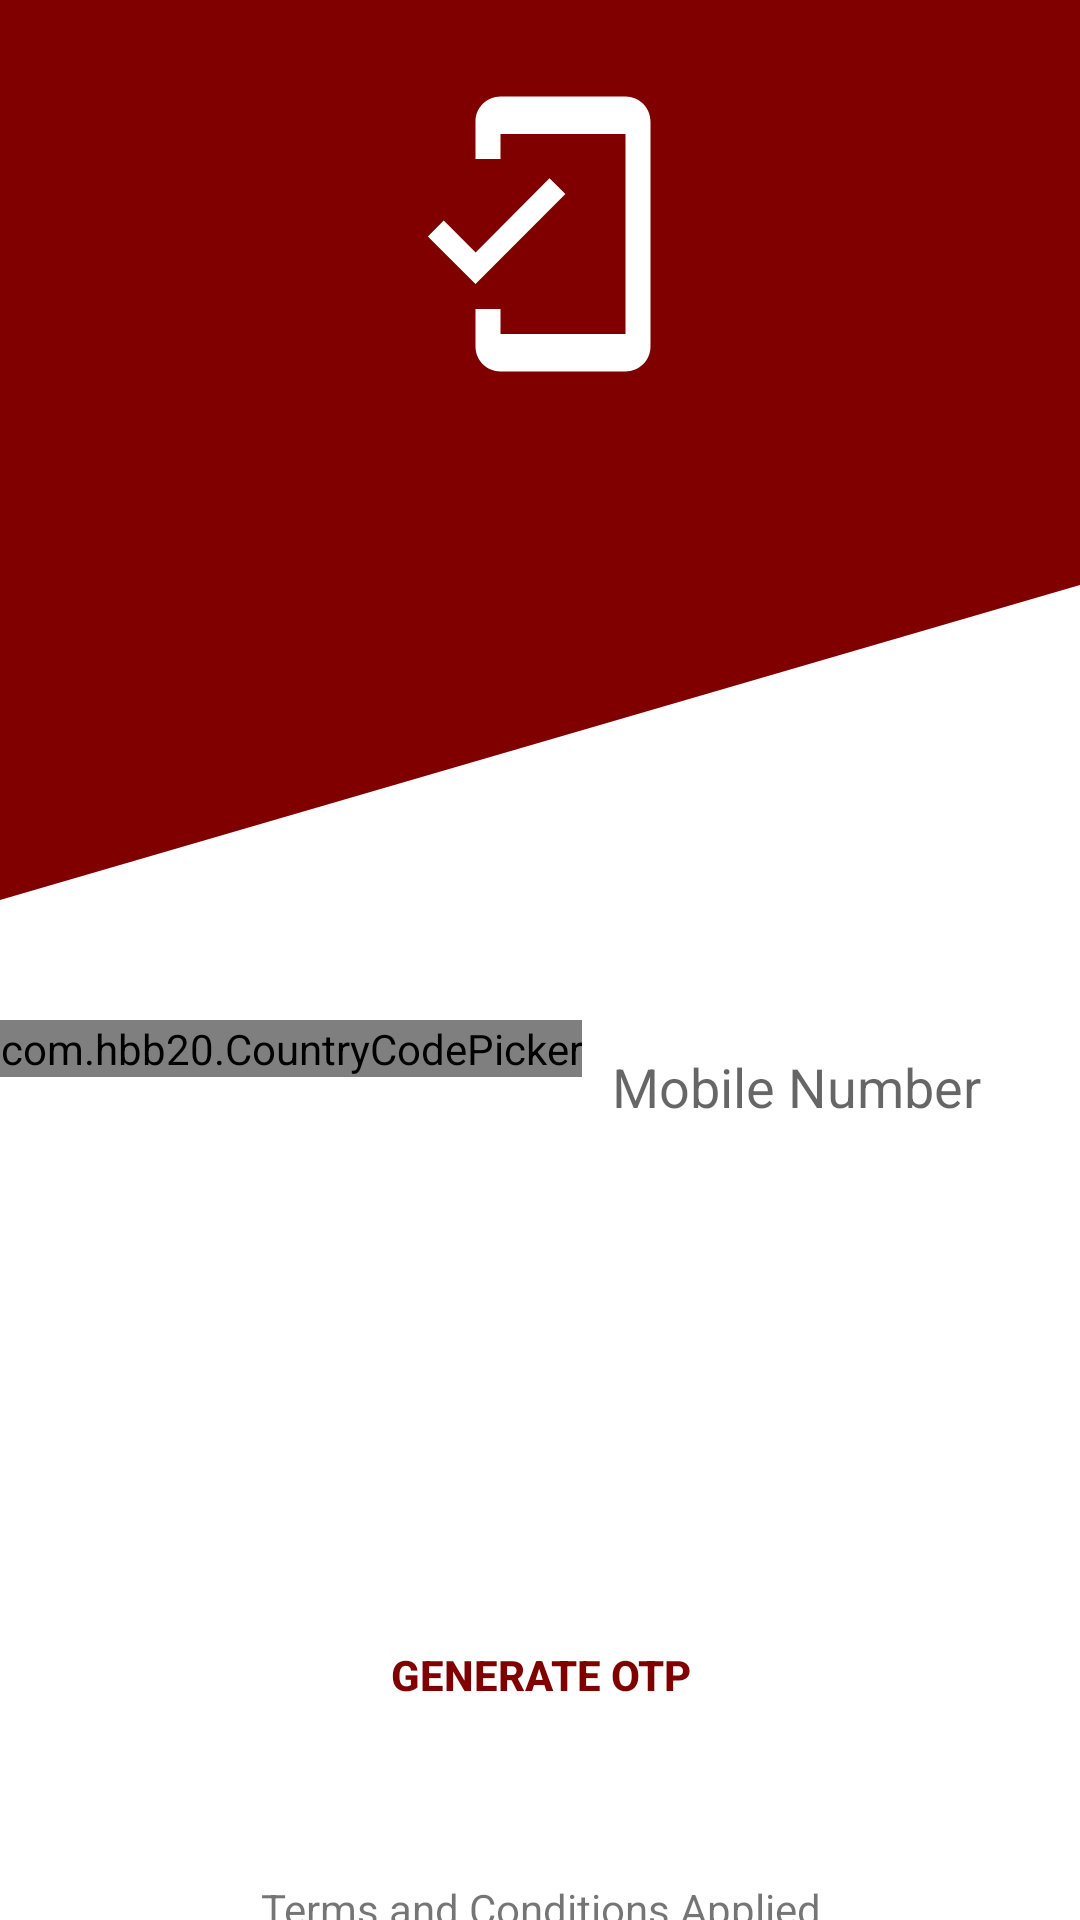

Where icons sit on this 1080 x 1920 app screen, as (x1, y1, x2, y2):
mobile friendly: (428, 96, 651, 372)
